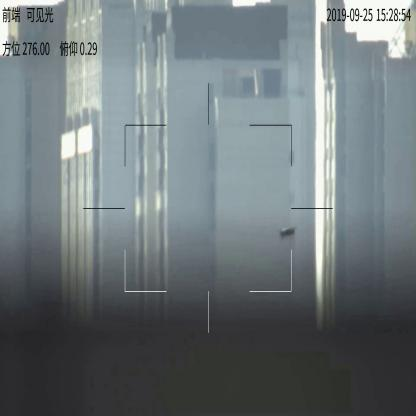uav: (278, 226, 293, 238)
